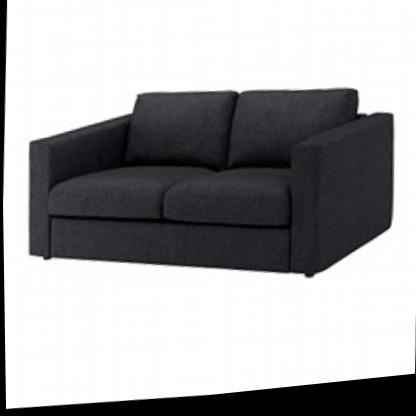Sofa: (13, 47, 405, 340)
